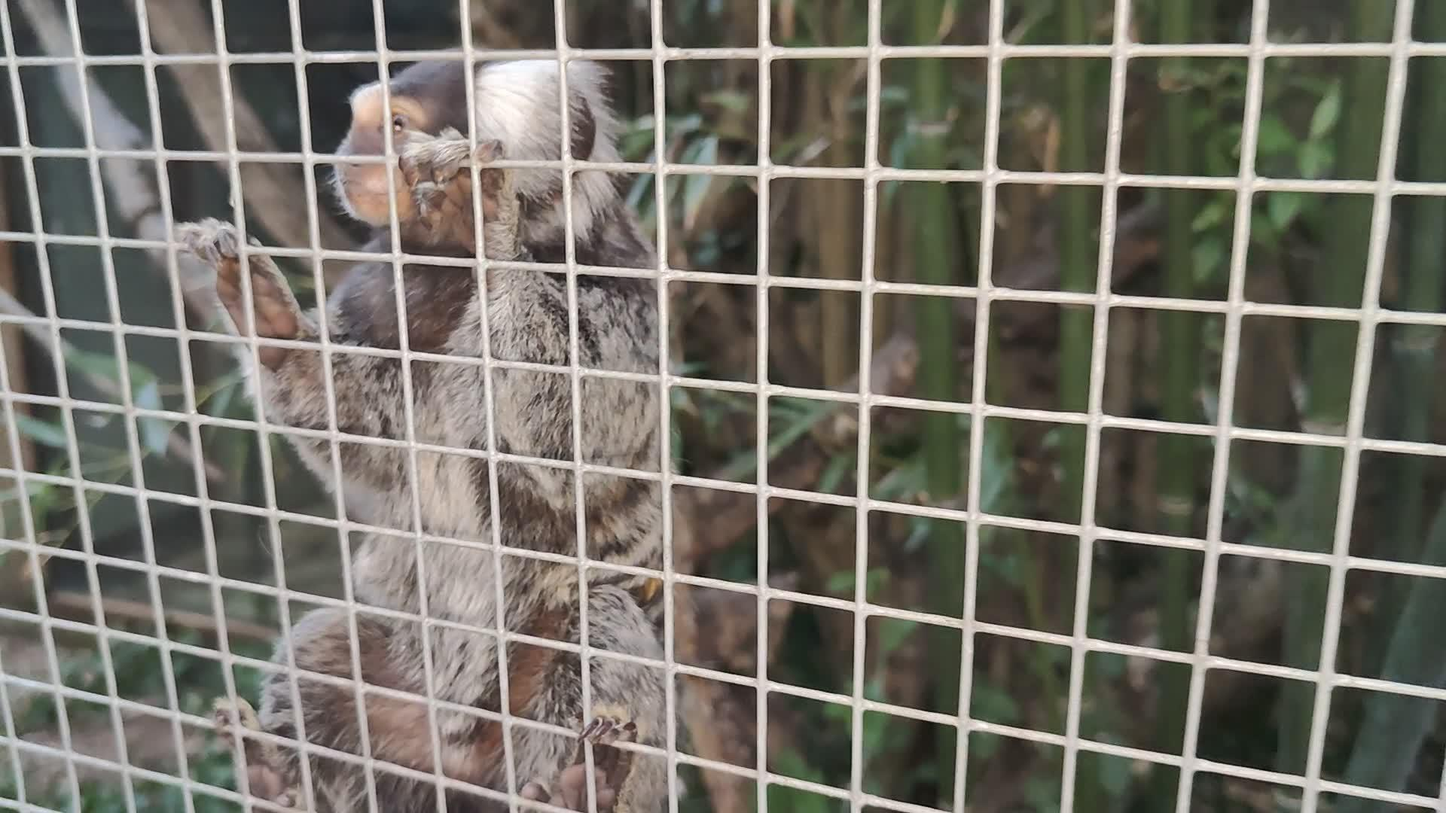boar: (175, 59, 675, 813)
